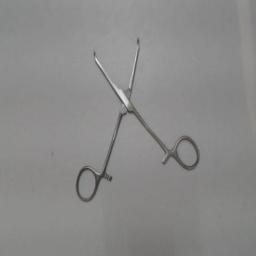Allis Tissue Forceps: (70, 32, 206, 208)
